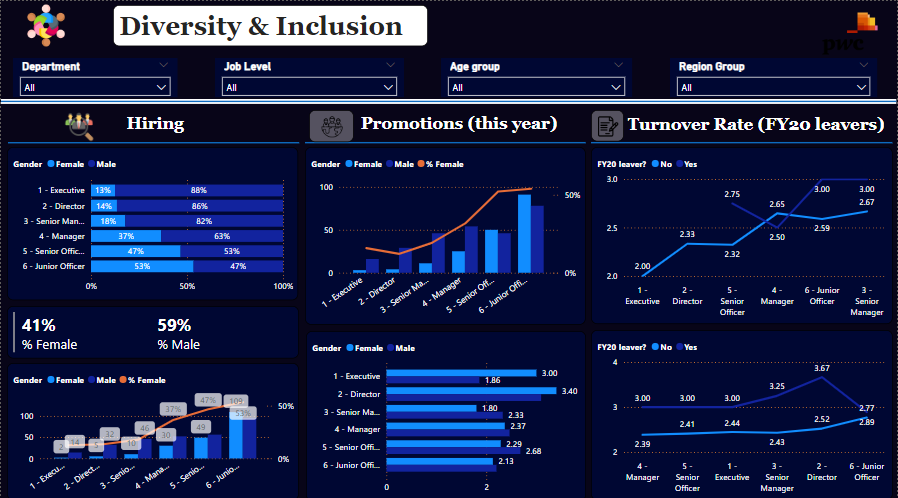

Layout of this report page (visuals, bound fields, positions):
{"tool":"powerbi","page":{"name":"Page 1","canvas":[1280,720],"ordinal":0},"visuals":[{"type":"textbox","box":[160,5,450,58.8],"z":0},{"type":"slicer","fields":{"Values":["Pharma.Last Department in FY20"]},"box":[16.5,81,234.6,56],"z":1000,"group":"g1"},{"type":"hundredPercentStackedBarChart","fields":{"Y":["CountNonNull(Pharma.Employee ID)"],"Category":["Pharma.Job Level after FY20 promotions"],"Series":["Pharma.Gender"]},"box":[9.1,209.1,416.4,219.1],"z":1000},{"type":"slicer","fields":{"Values":["Pharma.Job Level after FY20 promotions"]},"box":[304.7,81,270.3,56],"z":2000,"group":"g1"},{"type":"multiRowCard","fields":{"Values":["Pharma.% Female","Pharma.% Male"]},"box":[9.1,435.5,417.3,75.5],"z":2000},{"type":"slicer","fields":{"Values":["Pharma.Age group"]},"box":[628.5,81,273.1,56],"z":3000,"group":"g1"},{"type":"lineClusteredColumnComboChart","fields":{"Category":["Pharma.Job Level after FY20 promotions"],"Y":["CountNonNull(Pharma.Employee ID)"],"Y2":["Pharma.% Female"],"Series":["Pharma.Gender"]},"box":[9.1,517.3,417.3,196.4],"z":3000},{"type":"slicer","fields":{"Values":["Pharma.Broad region group: nationality 1"]},"box":[955.1,81,296.4,56],"z":4000,"group":"g1"},{"type":"lineClusteredColumnComboChart","fields":{"Y":["CountNonNull(Pharma.Employee ID)"],"Y2":["Pharma.% Female"],"Series":["Pharma.Gender"],"Category":["Pharma.Job Level after FY21 promotions"]},"box":[434.5,209.1,400.9,253.6],"z":4000},{"type":"clusteredBarChart","fields":{"Category":["Pharma.Job Level after FY20 promotions"],"Series":["Pharma.Gender"],"Y":["Avg(Pharma.Time in Job Level @01.07.2020)"]},"box":[435.3,471.3,400,242.7],"z":5000},{"type":"lineChart","fields":{"Category":["Pharma.Job Level after FY20 promotions"],"Y":["Avg(Pharma.FY19 Performance Rating)"],"Series":["Pharma.FY20 leaver?"]},"box":[842.5,209.2,430.8,253.3],"z":6000},{"type":"group","id":"g1","title":"Group 1","box":[16.5,81,1235,56],"z":7000},{"type":"shape","box":[0,140,1278.9,6.9],"z":8000},{"type":"lineChart","fields":{"Category":["Pharma.Job Level after FY20 promotions"],"Y":["Avg(Pharma.FY19 Performance Rating)"],"Series":["Pharma.FY20 leaver?"]},"box":[842.7,470.7,430.7,243.3],"z":9000},{"type":"textbox","box":[164.7,155.1,116.6,48],"z":10000},{"type":"shape","box":[9.5,195,416,13.5],"z":11000},{"type":"textbox","box":[503.3,155,321.1,46.7],"z":12000},{"type":"shape","box":[434.4,195,401.1,13.3],"z":13000},{"type":"shape","box":[842.8,195,430.6,13.3],"z":14000},{"type":"textbox","box":[890,153.8,388.8,48.8],"z":15000},{"type":"image","box":[22,0,85.1,70],"z":16000},{"type":"image","box":[1163.6,11,96.1,70],"z":17000},{"type":"image","box":[64.5,153.7,94.7,50.8],"z":18000},{"type":"image","box":[440,156.2,63.8,46.2],"z":19000},{"type":"image","box":[843.1,156.2,46.9,45.4],"z":20000}]}

Visuals, with their boxes in screenshot pixels (x1, y1, x2, y2), scaled from the page's 1280x720 canvas onto the 898x498 screenshot:
textbox: x1=112, y1=3, x2=428, y2=44
slicer - Pharma.Last Department in FY20: x1=12, y1=56, x2=176, y2=95
hundredPercentStackedBarChart - CountNonNull(Pharma.Employee ID) x Pharma.Job Level after FY20 promotions: x1=6, y1=145, x2=299, y2=296
slicer - Pharma.Job Level after FY20 promotions: x1=214, y1=56, x2=403, y2=95
multiRowCard - Pharma.% Female x Pharma.% Male: x1=6, y1=301, x2=299, y2=353
slicer - Pharma.Age group: x1=441, y1=56, x2=633, y2=95
lineClusteredColumnComboChart - Pharma.Job Level after FY20 promotions x CountNonNull(Pharma.Employee ID): x1=6, y1=358, x2=299, y2=494
slicer - Pharma.Broad region group: nationality 1: x1=670, y1=56, x2=878, y2=95
lineClusteredColumnComboChart - CountNonNull(Pharma.Employee ID) x Pharma.% Female: x1=305, y1=145, x2=586, y2=320
clusteredBarChart - Pharma.Job Level after FY20 promotions x Pharma.Gender: x1=305, y1=326, x2=586, y2=494
lineChart - Pharma.Job Level after FY20 promotions x Avg(Pharma.FY19 Performance Rating): x1=591, y1=145, x2=893, y2=320
"Group 1" group: x1=12, y1=56, x2=878, y2=95
shape: x1=0, y1=97, x2=897, y2=102
lineChart - Pharma.Job Level after FY20 promotions x Avg(Pharma.FY19 Performance Rating): x1=591, y1=326, x2=893, y2=494
textbox: x1=116, y1=107, x2=197, y2=140
shape: x1=7, y1=135, x2=299, y2=144
textbox: x1=353, y1=107, x2=578, y2=140
shape: x1=305, y1=135, x2=586, y2=144
shape: x1=591, y1=135, x2=893, y2=144
textbox: x1=624, y1=106, x2=897, y2=140
image: x1=15, y1=0, x2=75, y2=48
image: x1=816, y1=8, x2=884, y2=56
image: x1=45, y1=106, x2=112, y2=141
image: x1=309, y1=108, x2=353, y2=140
image: x1=591, y1=108, x2=624, y2=139
